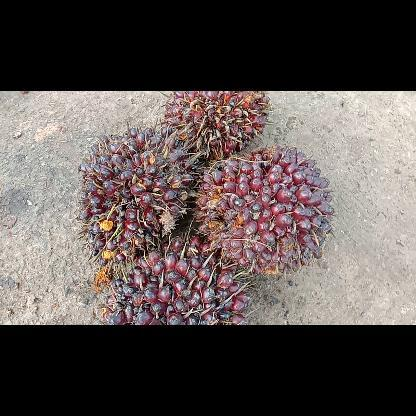Kurang masak: (75, 126, 202, 272), (98, 230, 252, 324), (157, 91, 274, 164)
TBS masak: (192, 141, 338, 278)
